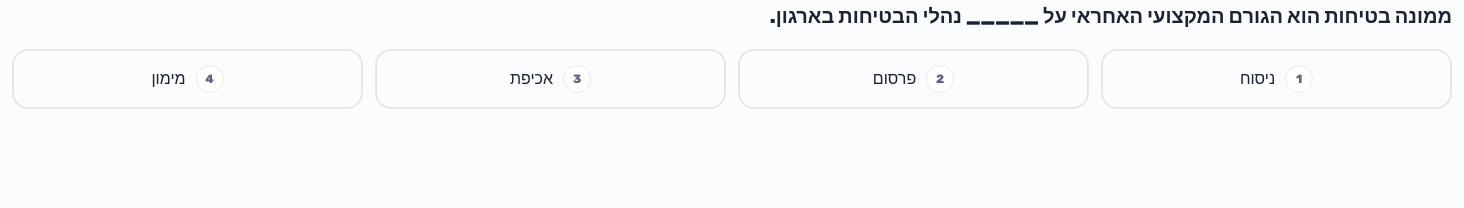
Test: MCQShort › לחיצה על אופציה → aria-checked=true + הכפתור מופיע
Click the radio button with test id "mcq-option-2" at (550, 78), box [375,48,726,108]
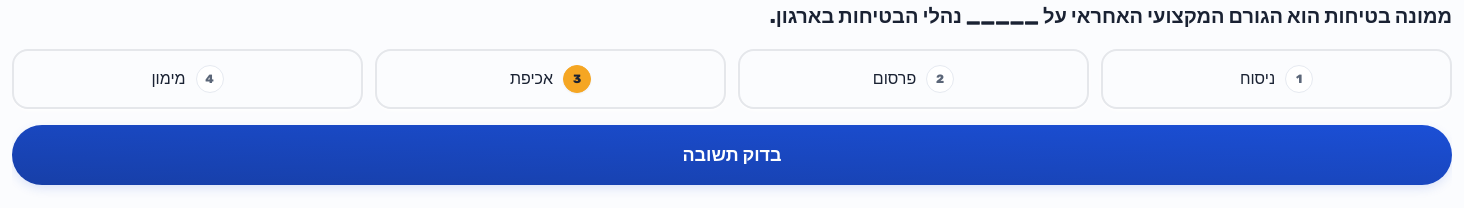
Result: the button with test id "check-answer-button" is shown at [12,124,1452,184]
